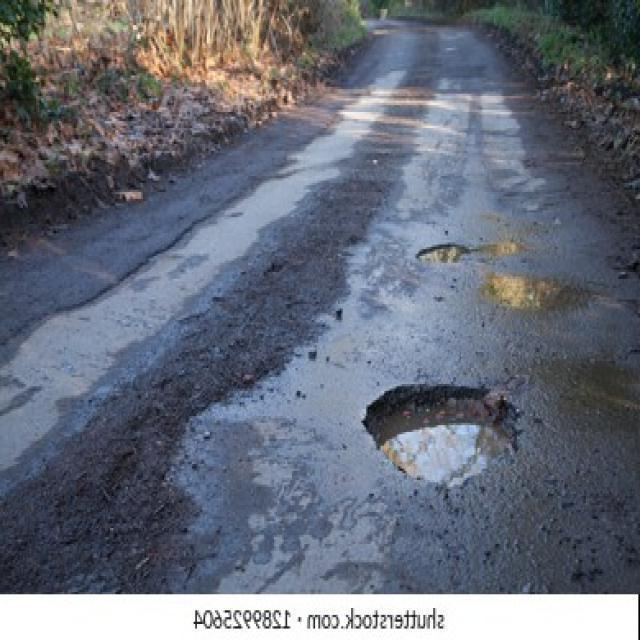Pothole: (359, 382, 523, 510)
